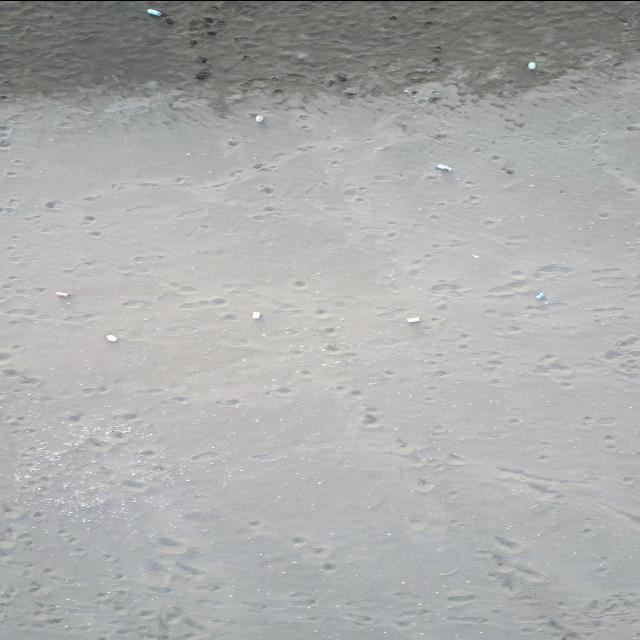Garbage: (435, 163, 452, 171), (195, 70, 208, 80), (145, 8, 161, 15), (105, 333, 116, 342), (408, 316, 420, 323), (535, 292, 544, 300), (164, 16, 172, 24), (252, 311, 260, 319), (56, 291, 68, 296), (527, 61, 535, 68), (256, 115, 263, 121)
